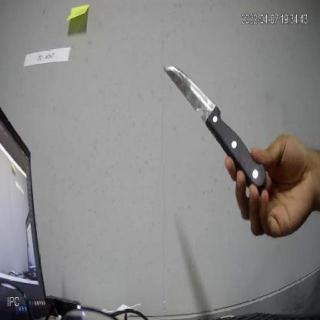knife: (162, 62, 270, 186)
